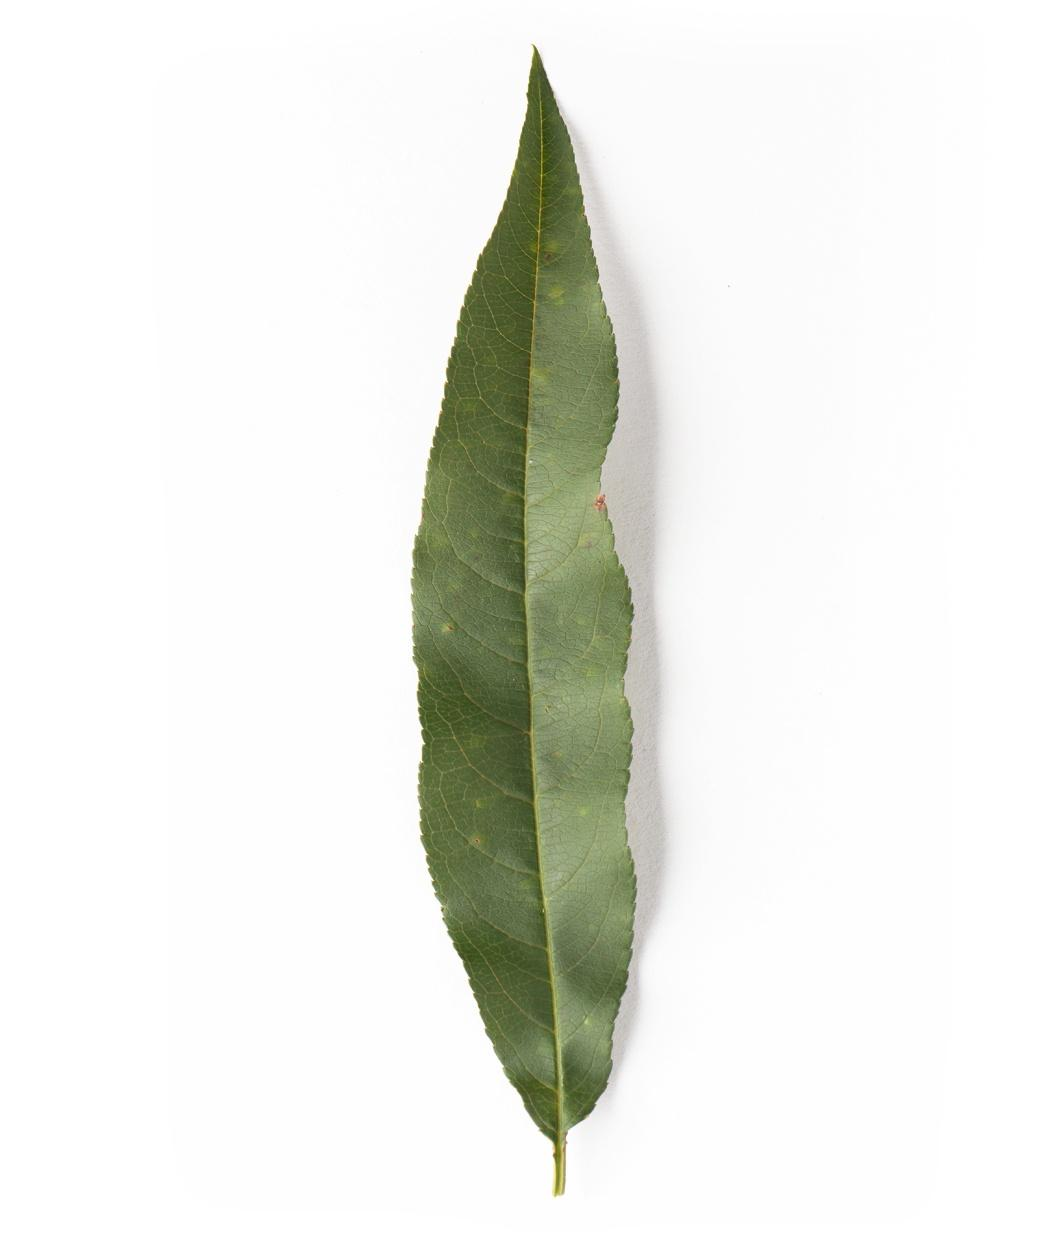Peach leaf: (401, 32, 700, 1237)
